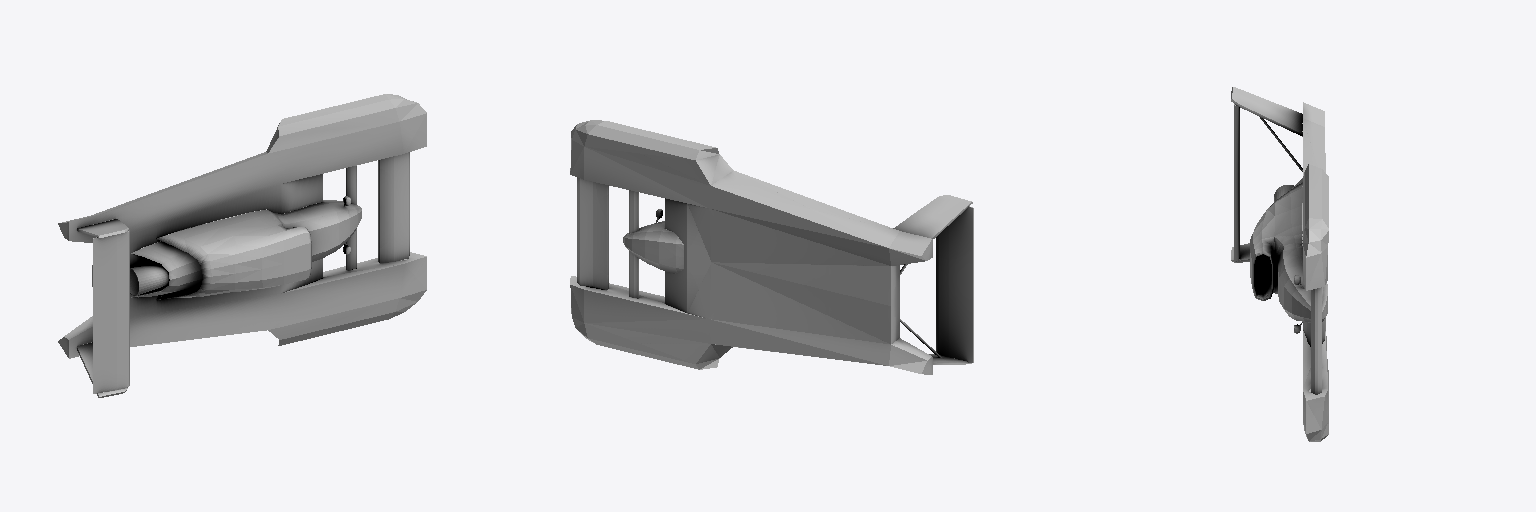
3 views of the same model, side by side, from view 1: azimuth 30°, elevation 25°; view 2: azimuth 150°, elevation 25°; view 3: azimuth 270°, elevation 25° (orthographic).
Parts seen in each view (by area): view 1: Cube, Cube.005, Cube.002, Cube.003, Cube.006, Cube.001, Cylinder, Cube.004; view 2: Cube, Cube.002, Cube.003, Cube.005, Cube.001, Cube.004; view 3: Cube, Cube.005, Cube.001, Cube.003, Cube.002.
Part boxes in pixels (bbox=[...]): Cube: bbox=[58, 94, 426, 358]; Cube.005: bbox=[157, 200, 361, 299]; Cube.002: bbox=[93, 230, 129, 393]; Cube.003: bbox=[378, 152, 409, 262]; Cube.006: bbox=[131, 241, 202, 297]; Cube.001: bbox=[77, 219, 128, 397]; Cylinder: bbox=[130, 264, 169, 295]; Cube.004: bbox=[346, 166, 356, 269]; Cube: bbox=[570, 120, 932, 374]; Cube.002: bbox=[936, 206, 973, 362]; Cube.003: bbox=[577, 177, 608, 289]; Cube.005: bbox=[623, 221, 683, 273]; Cube.001: bbox=[893, 195, 972, 364]; Cube.004: bbox=[629, 190, 638, 298]; Cube: bbox=[1303, 102, 1328, 441]; Cube.005: bbox=[1250, 182, 1327, 322]; Cube.001: bbox=[1231, 87, 1302, 262]; Cube.003: bbox=[1311, 287, 1321, 394]; Cube.002: bbox=[1234, 104, 1239, 261].
Bounding box in the file's own units: 7.02 × 4 × 1.63.
1 materials, 1 textured.